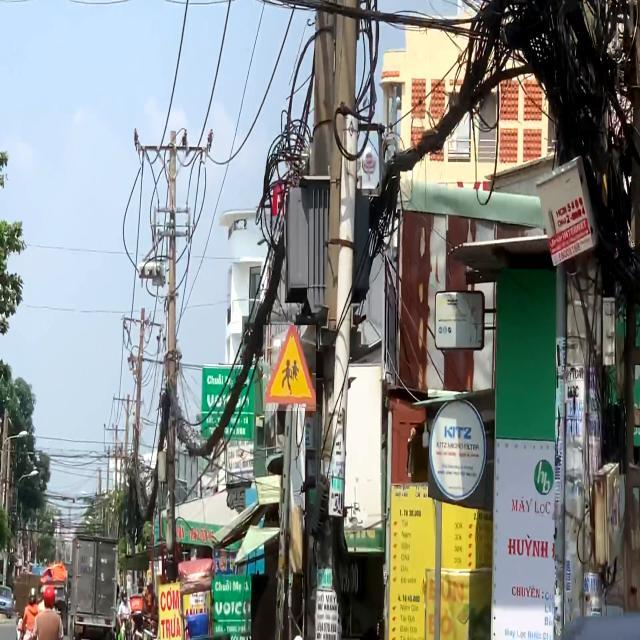W-225: (263, 326, 316, 412)
